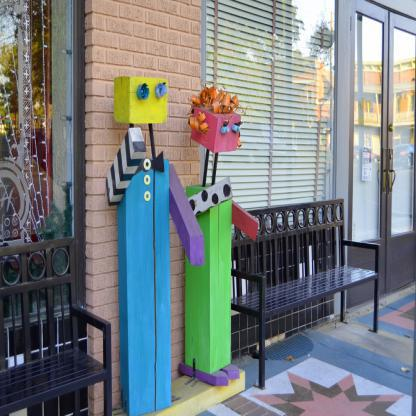door: (345, 0, 387, 312), (386, 5, 416, 299)
